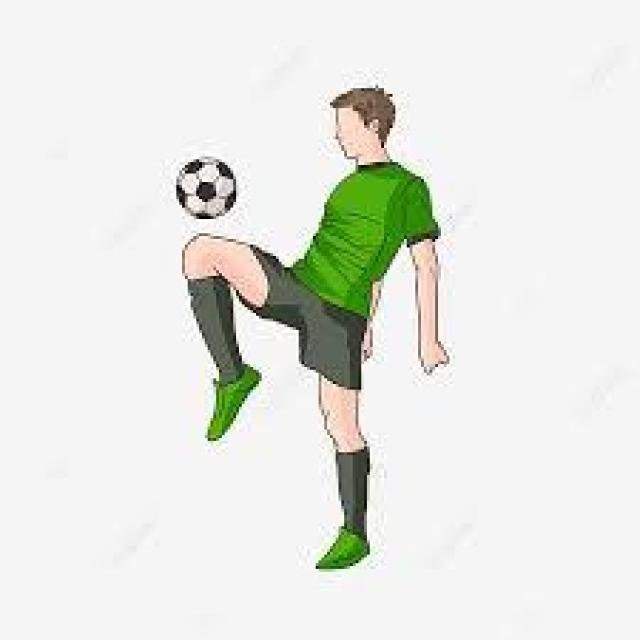Soccer Ball: (176, 154, 236, 219)
